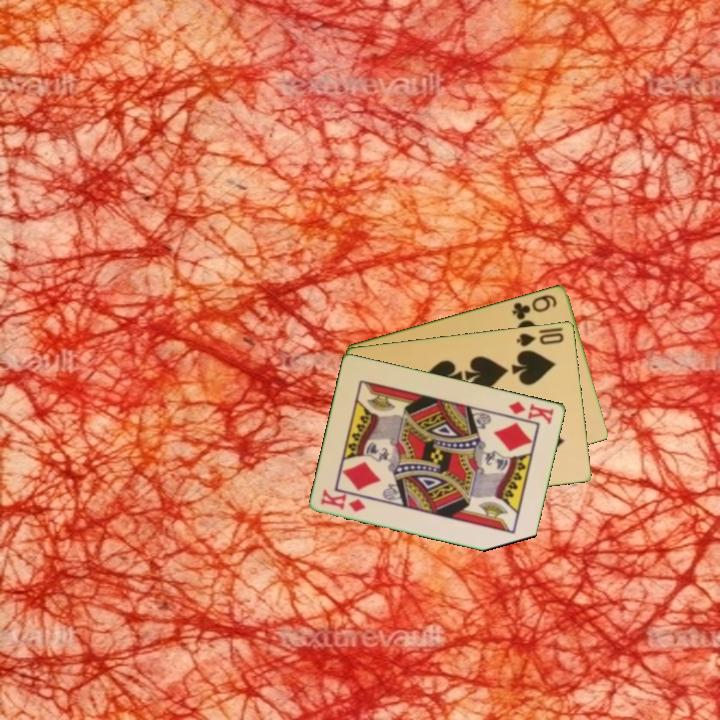10s: (513, 329, 567, 349)
6c: (509, 291, 560, 322)
Kd: (505, 398, 557, 427), (317, 486, 369, 515)
